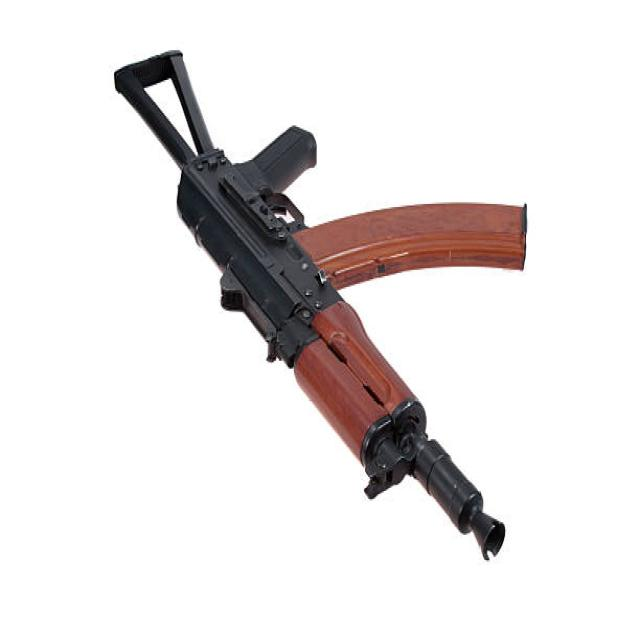rifle: (107, 32, 535, 590)
